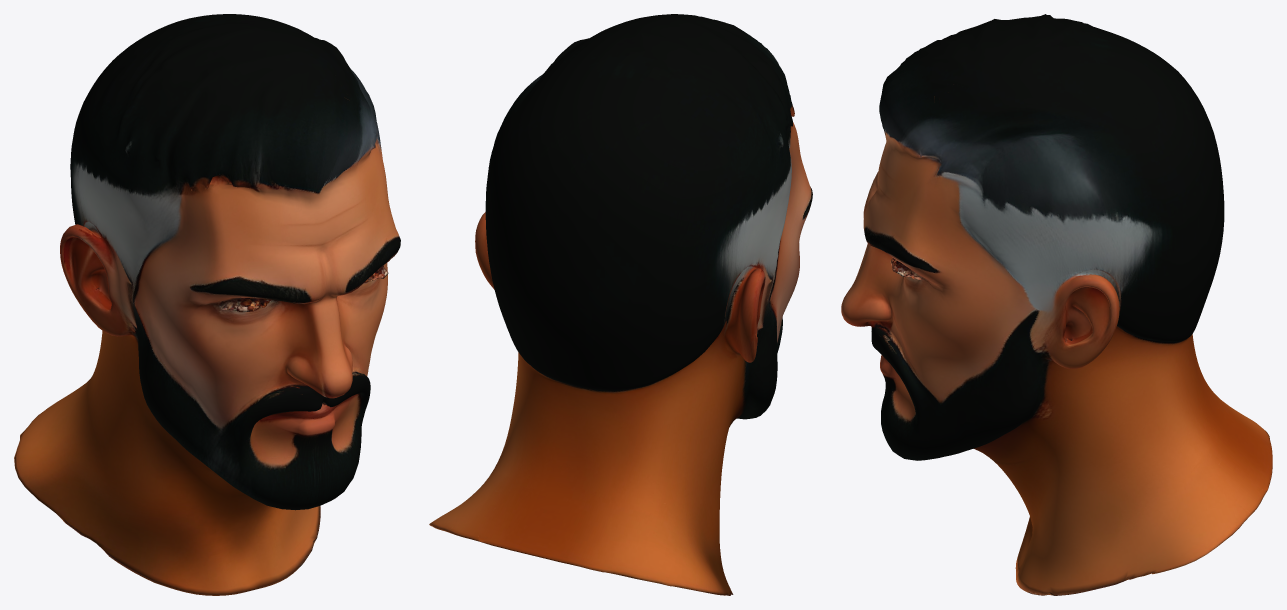
The model's file is kael.glb.
The picture shows the model from 3 angles, left to right: view 1: azimuth 30°, elevation 25°; view 2: azimuth 150°, elevation 25°; view 3: azimuth 270°, elevation 25°; orthographic projection. The views are drawn at different scales.
Parts seen in each view (by area): view 1: model; view 2: model; view 3: model.
Part boxes in pixels (bbox=[...]): model: bbox=[14, 14, 400, 595]; model: bbox=[429, 14, 812, 595]; model: bbox=[841, 14, 1272, 595].
Size of the model in its own units: 1.04 by 1.89 by 1.37.
Materials: 1 (1 with a texture image).
